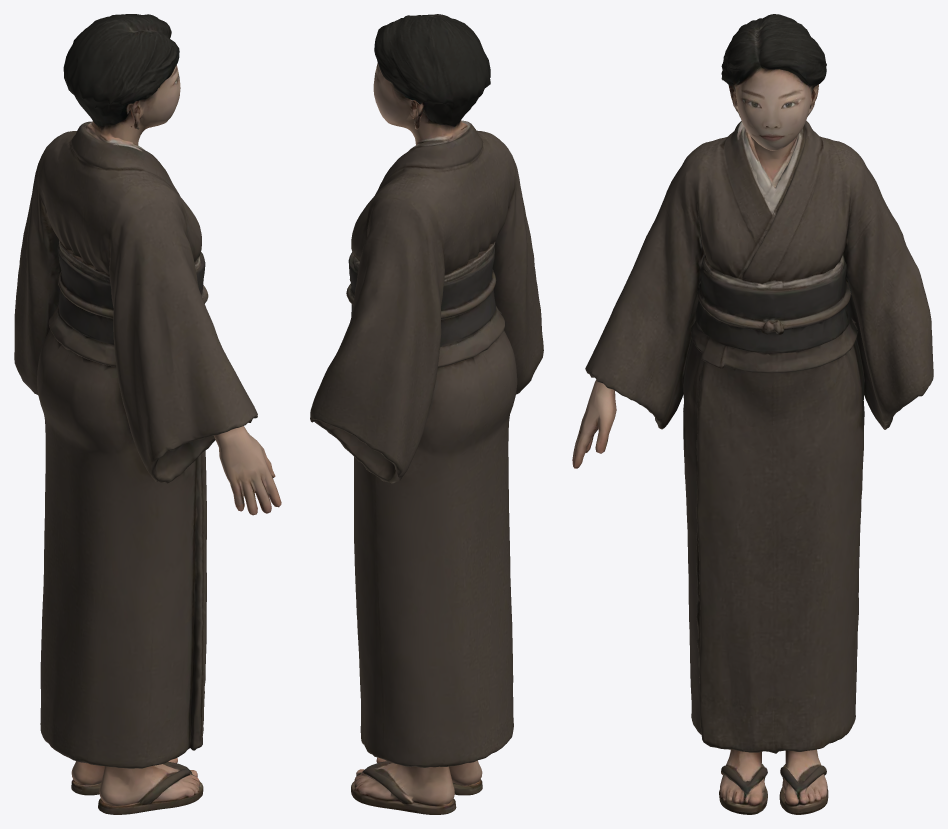
File: yokai-noppera.glb
3 views of the same model, side by side, from view 1: azimuth 30°, elevation 25°; view 2: azimuth 150°, elevation 25°; view 3: azimuth 270°, elevation 25° (orthographic).
Parts seen in each view (by area): view 1: tripo_node_0a94c1ba-a0a1-4e43-a535-c9ce18f393de; view 2: tripo_node_0a94c1ba-a0a1-4e43-a535-c9ce18f393de; view 3: tripo_node_0a94c1ba-a0a1-4e43-a535-c9ce18f393de.
Boxes of the visible parts, x1,y1,x2,y2 form: tripo_node_0a94c1ba-a0a1-4e43-a535-c9ce18f393de: (14,14,281,814); tripo_node_0a94c1ba-a0a1-4e43-a535-c9ce18f393de: (310,14,543,814); tripo_node_0a94c1ba-a0a1-4e43-a535-c9ce18f393de: (572,14,933,814).
Bounding box in the file's own units: 0.1991 × 1 × 0.428.
Materials: 1 (1 with a texture image).
